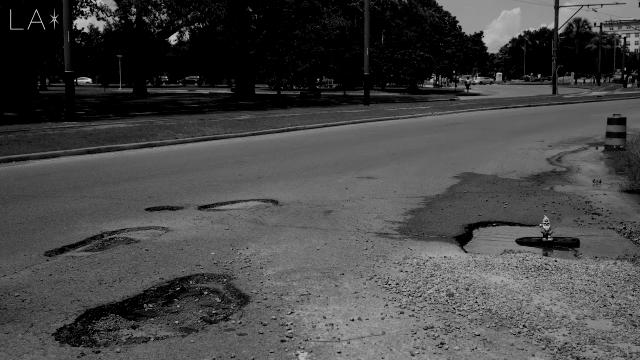Pothole: (35, 258, 256, 358), (438, 202, 640, 296), (40, 221, 172, 270), (186, 178, 286, 228), (143, 192, 183, 216)
